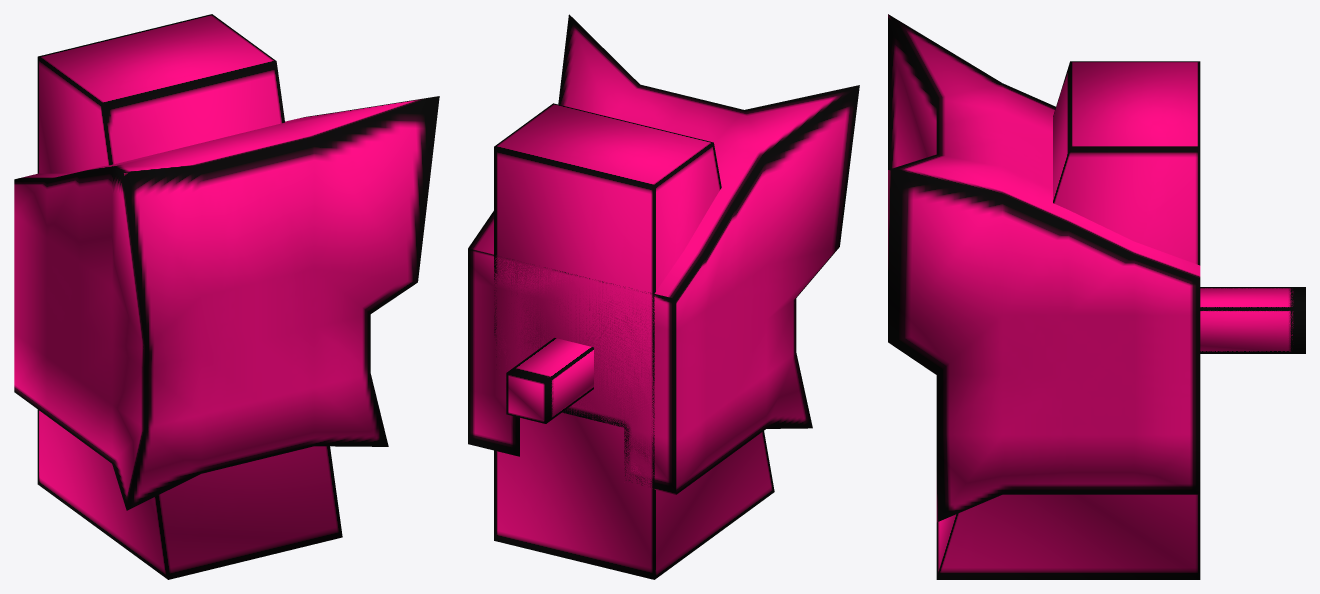
The model's file is troglother.fbx.
3 views of the same model, side by side, from view 1: azimuth 30°, elevation 25°; view 2: azimuth 150°, elevation 25°; view 3: azimuth 270°, elevation 25° (orthographic). The views are drawn at different scales.
Parts seen in each view (by area): view 1: head, body; view 2: head, body, leg2_FR, leg2_FL; view 3: head, body, leg2_FL, leg2_FR.
Boxes of the visible parts, <box> form: head: <box>14,96,439,510</box>; body: <box>37,14,342,579</box>; head: <box>468,14,859,494</box>; body: <box>494,103,774,579</box>; leg2_FR: <box>506,340,593,423</box>; leg2_FL: <box>506,338,593,422</box>; head: <box>888,14,1200,522</box>; body: <box>936,61,1200,579</box>; leg2_FL: <box>1200,287,1305,353</box>; leg2_FR: <box>1200,287,1305,353</box>.
Bounding box in the file's own units: 2.8 × 3.73 × 3.17.
Materials: 2 (2 with a texture image).
